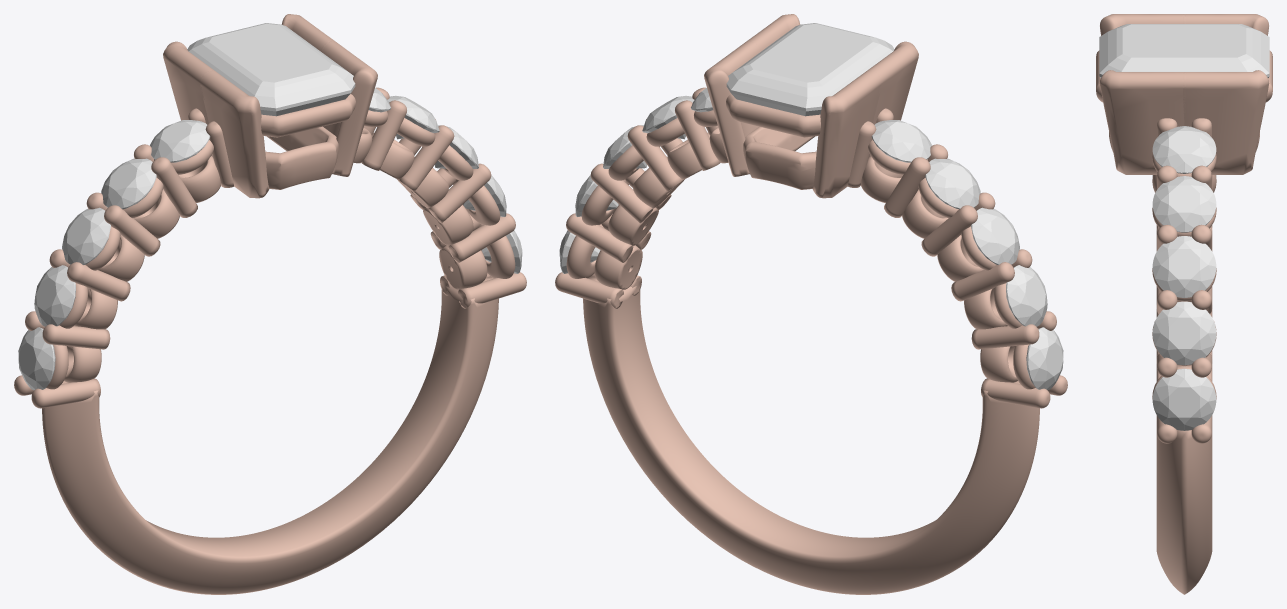
Rendered from diamond-emerald-rosegold-halfmoonbezel-knifeedge-11stone.glb.
3 views of the same model, side by side, from view 1: azimuth 30°, elevation 25°; view 2: azimuth 150°, elevation 25°; view 3: azimuth 270°, elevation 25° (orthographic).
Visible parts, largest first — view 1: metal.003, stone.002, side.024, side.025, side.023, side.026, side.002, side.028; view 2: metal.003, stone.002, side.024, side.025, side.023, side.026, side.002, side.028; view 3: metal.003, stone.002, side.030, side.031, side.029, side.028, side.027.
Part boxes in pixels (x1,y1,x2,y2): metal.003: [14, 14, 526, 594]; stone.002: [187, 23, 355, 116]; side.024: [62, 207, 110, 264]; side.025: [101, 158, 156, 209]; side.023: [34, 265, 75, 326]; side.026: [150, 120, 210, 162]; side.002: [18, 327, 55, 390]; side.028: [387, 95, 439, 139]; metal.003: [555, 14, 1067, 594]; stone.002: [726, 23, 894, 116]; side.024: [971, 207, 1019, 264]; side.025: [925, 158, 980, 209]; side.023: [1006, 265, 1047, 326]; side.026: [871, 120, 931, 162]; side.002: [1026, 327, 1063, 390]; side.028: [642, 95, 694, 139]; metal.003: [1096, 14, 1272, 594]; stone.002: [1099, 24, 1269, 77]; side.030: [1152, 301, 1216, 365]; side.031: [1152, 368, 1216, 430]; side.029: [1152, 236, 1216, 297]; side.028: [1152, 176, 1216, 232]; side.027: [1152, 126, 1216, 173].
Bounding box in the file's own units: 22.03 × 22.94 × 6.94.
